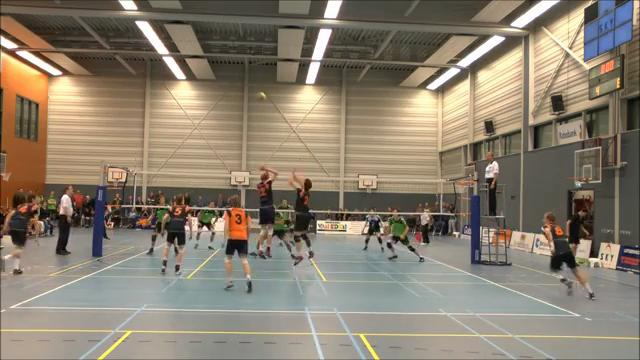Player: (542, 212, 594, 299), (2, 194, 36, 274), (224, 195, 251, 292), (161, 195, 191, 274), (256, 166, 277, 258), (387, 209, 424, 261), (147, 196, 168, 254), (194, 201, 217, 249), (273, 212, 294, 259), (363, 208, 383, 251), (277, 199, 292, 232)
Set: (286, 168, 315, 268)
ball: (259, 92, 266, 101)
